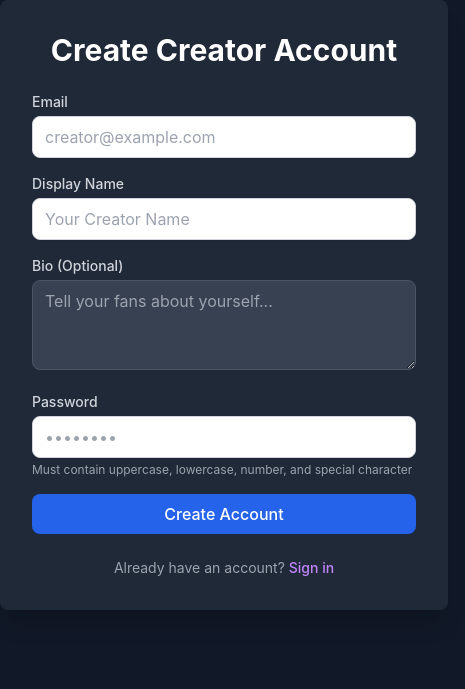
Property 1: Valid registration creates Cognito account › should display error message when registration fails
Note: Fill in the form
Type "existing@example.com" into the field labelled "Email".
click(224, 137); type("existing@example.com")  # box [32,116,416,158]
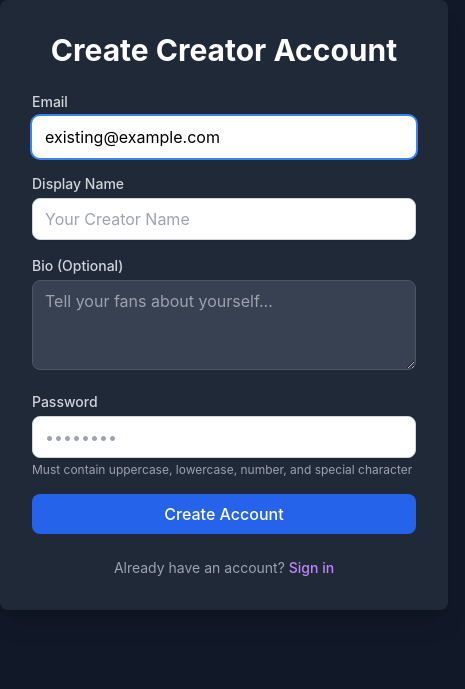
Type "Test Creator" into the field labelled "Display Name".
click(224, 219); type("Test Creator")  # box [32,198,416,240]
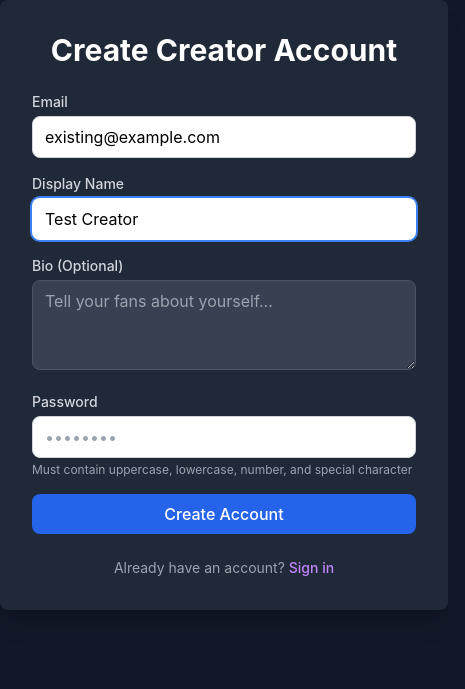
Type "Test1234!" into the password field labelled "Password".
click(224, 437); type("Test1234!")  # box [32,416,416,458]
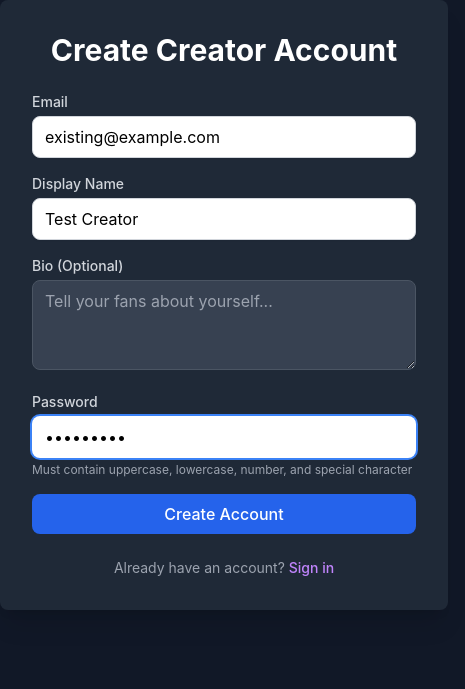
Note: Submit the form
Click the button "Create Account".
click(224, 514)  # box [32,494,416,534]
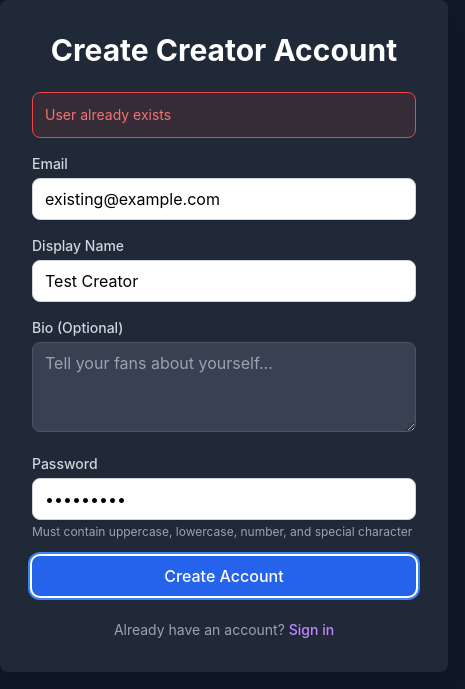
Now the text "User already exists" is shown, box [32,92,416,138]
